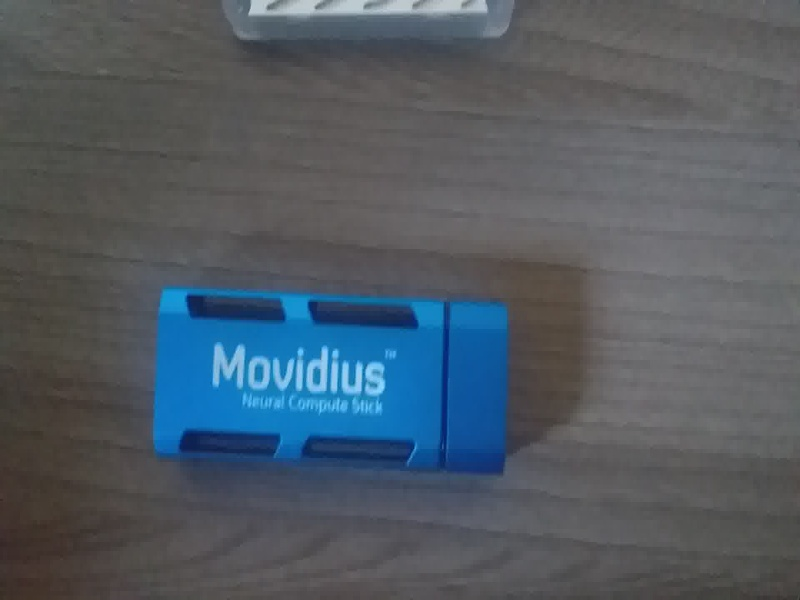movidius: (146, 274, 518, 488)
